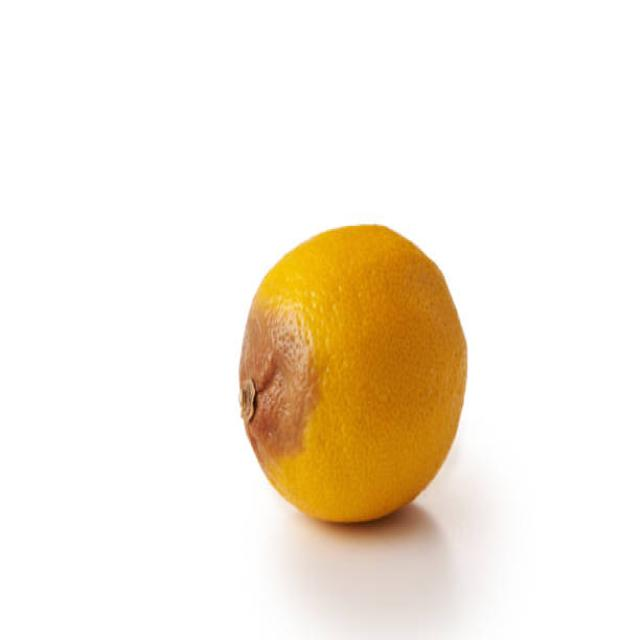overripe: (238, 222, 469, 528)
